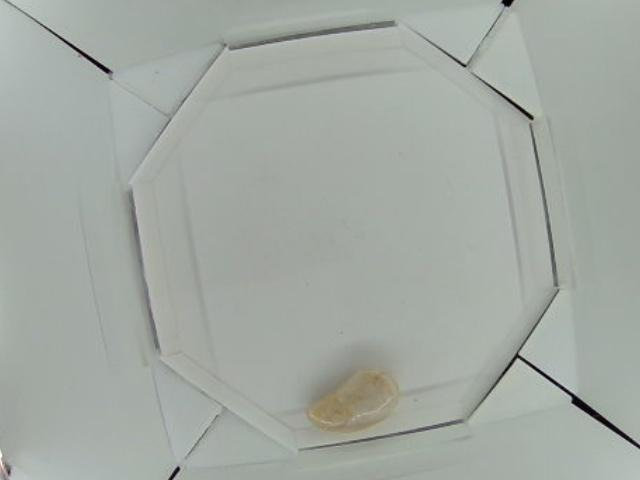Pebble: (307, 370, 402, 431)
